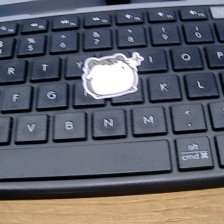mouse: (82, 52, 147, 103)
